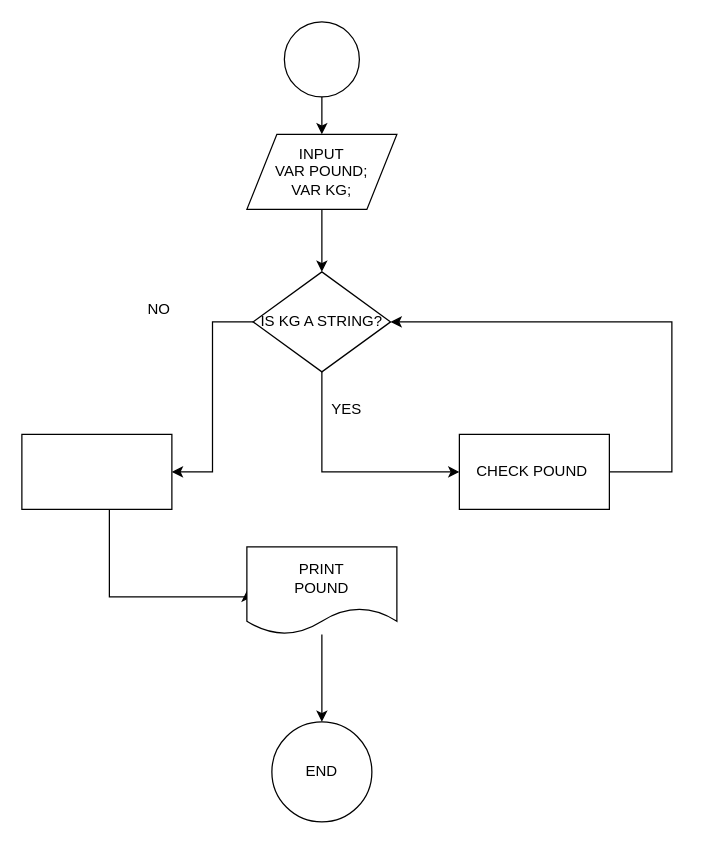
This 704x844 diagram has some shape labels left out. The centre of each missing label's shape, as x and y in pixels:
"POUND=KG*2.2" belongs at point 96,471.
"START" belongs at point 321,59.
